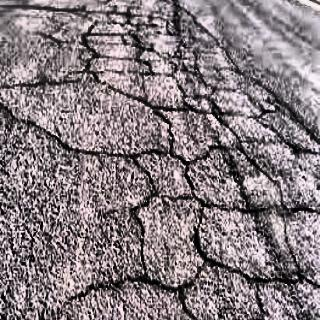alligator-crack: (57, 13, 314, 313)
